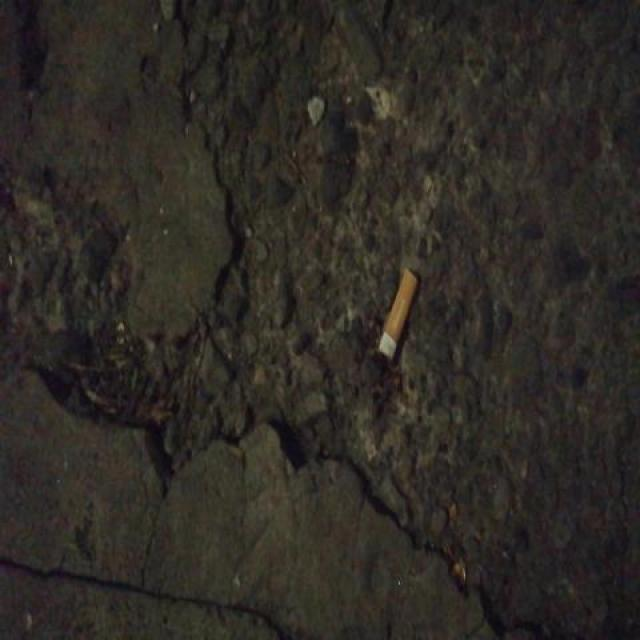non-organic waste: (374, 262, 419, 363)
